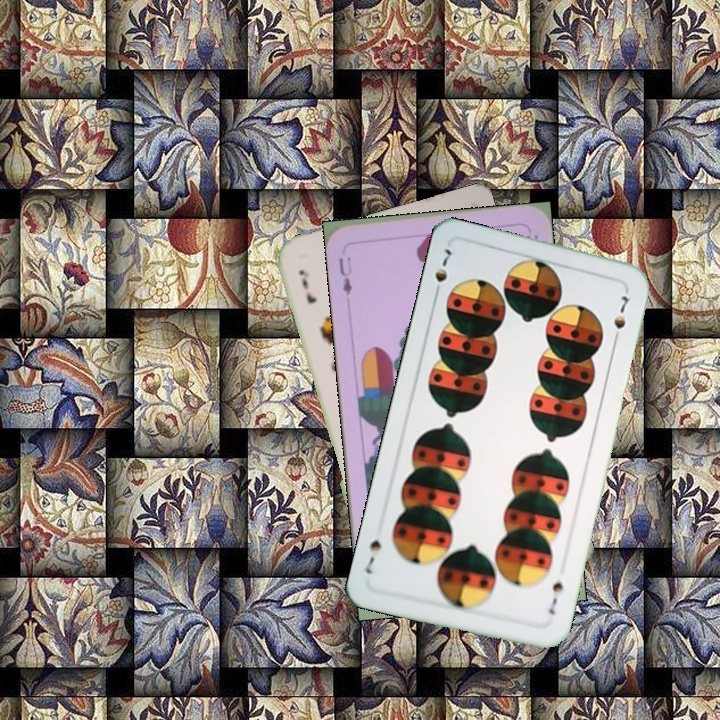E7: (295, 265, 319, 306)
EU: (335, 252, 355, 298)
S7: (430, 243, 456, 301), (544, 574, 566, 617)
